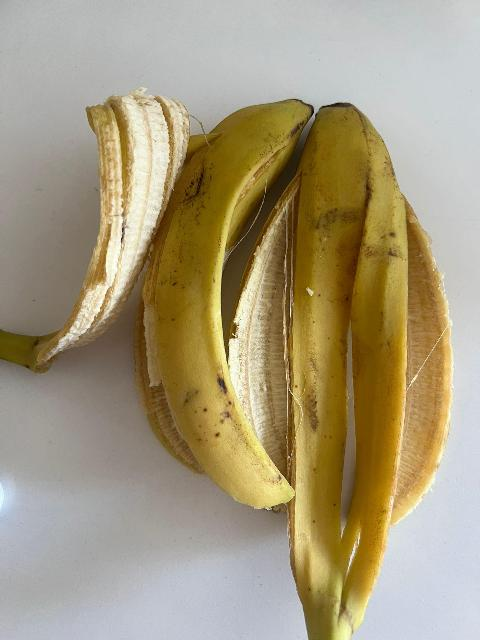Organik: (0, 92, 480, 640)
